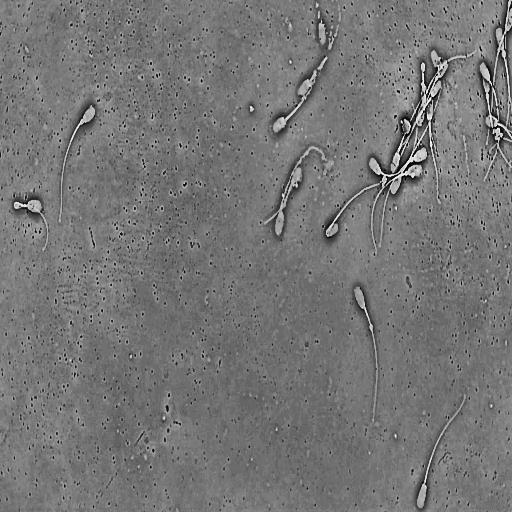dirt-particles: (400, 116, 412, 137)
distal-droplet: (369, 323, 373, 331), (430, 141, 432, 147)
folded-tail: (326, 183, 379, 237), (23, 205, 48, 250), (14, 202, 23, 209)
loose-head: (316, 18, 328, 48)
normal: (416, 391, 468, 510), (388, 80, 442, 181), (378, 143, 429, 248), (370, 164, 423, 256), (274, 147, 325, 237), (59, 105, 96, 224), (367, 100, 419, 178), (353, 282, 378, 424), (325, 181, 386, 238), (481, 65, 512, 170), (479, 59, 501, 186), (13, 198, 49, 252), (494, 27, 510, 139), (426, 97, 441, 203)
proximal-droplet: (501, 50, 506, 58), (409, 156, 414, 162), (80, 118, 84, 125), (486, 92, 489, 99), (405, 171, 408, 175)
